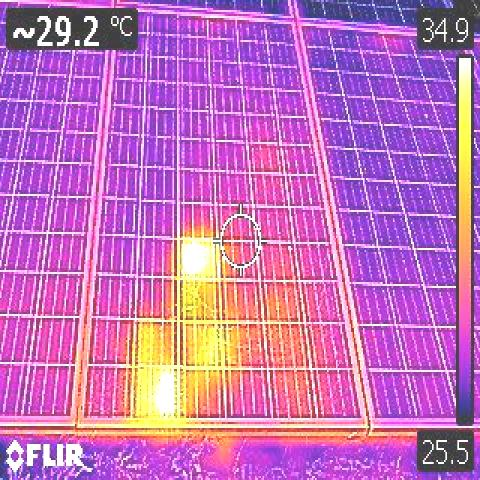fault: (139, 363, 183, 416), (180, 237, 220, 282), (183, 285, 207, 321), (202, 329, 223, 367)
